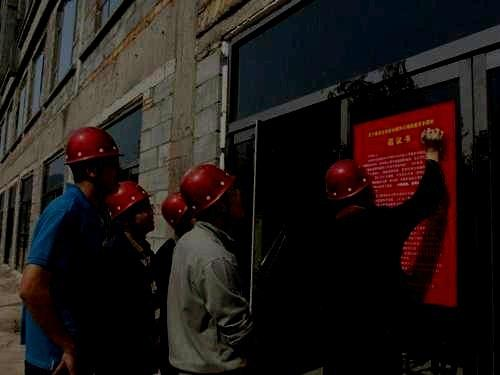helmet: (63, 124, 125, 194), (180, 163, 246, 220), (325, 159, 376, 211), (104, 180, 155, 231), (161, 191, 195, 231)
